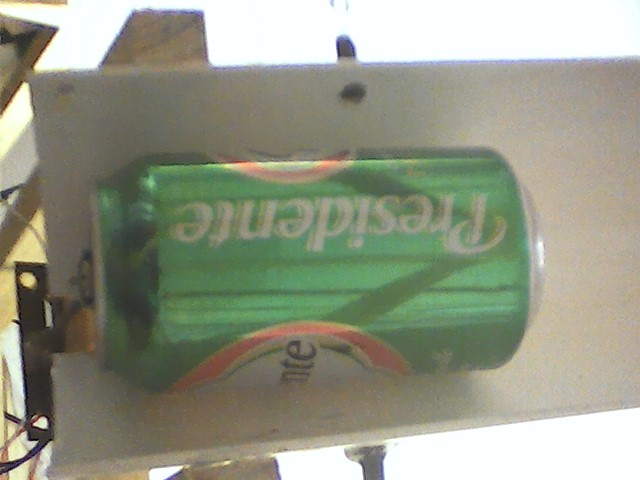lata: (77, 144, 558, 394)
